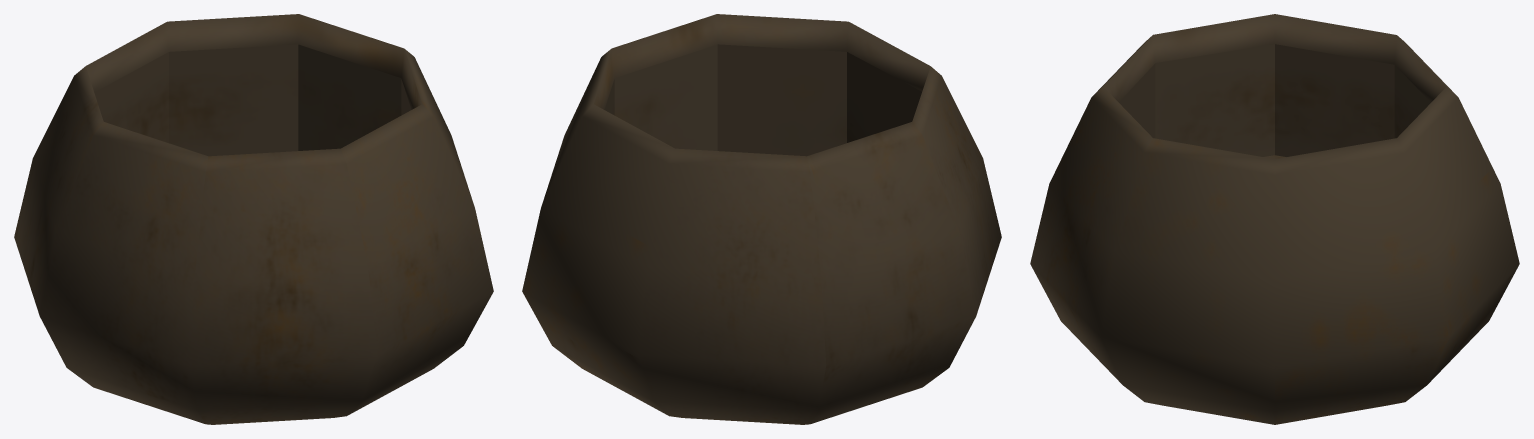
The model's file is Vase_Small_With Texture.FBX.
3 renders of one model, left to right at view 1: azimuth 30°, elevation 25°; view 2: azimuth 150°, elevation 25°; view 3: azimuth 270°, elevation 25°, orthographic.
Parts seen in each view (by area): view 1: Vase2; view 2: Vase2; view 3: Vase2.
Boxes of the visible parts, box(x1,y1,x2,y2) form: Vase2: box(14, 14, 493, 424); Vase2: box(522, 14, 1001, 424); Vase2: box(1030, 14, 1519, 424).
Bounding box in the file's own units: 10.8 × 6.75 × 10.8.
